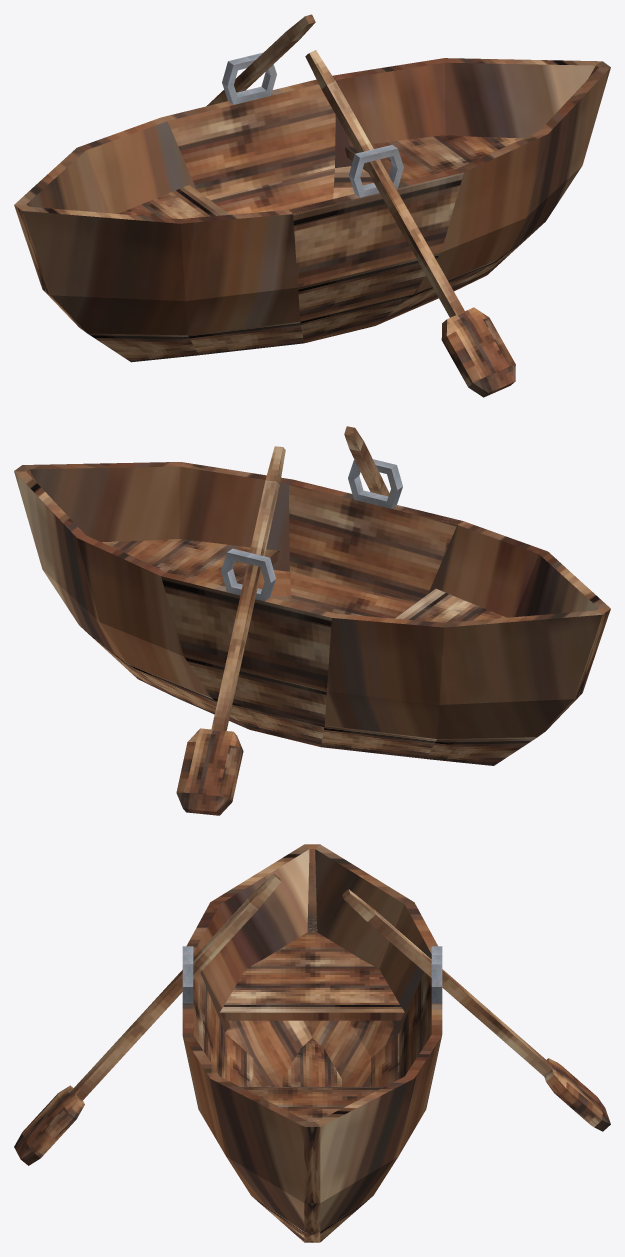
File: boat.fbx
3 renders of one model, top to bottom at view 1: azimuth 30°, elevation 25°; view 2: azimuth 150°, elevation 25°; view 3: azimuth 270°, elevation 25°, orthographic.
Parts seen in each view (by area): view 1: boat, oar, oar.001; view 2: boat, oar.001, oar; view 3: boat, oar, oar.001.
Part boxes in pixels (x1,y1,x2,y2): boat: (14,52,610,362); oar: (305,50,515,397); oar.001: (206,14,315,106); boat: (14,459,610,765); oar.001: (176,446,285,815); oar: (344,426,389,496); boat: (182,844,442,1242); oar: (14,873,281,1165); oar.001: (342,889,610,1131).
Bounding box in the file's own units: 1944 × 889 × 1737.
